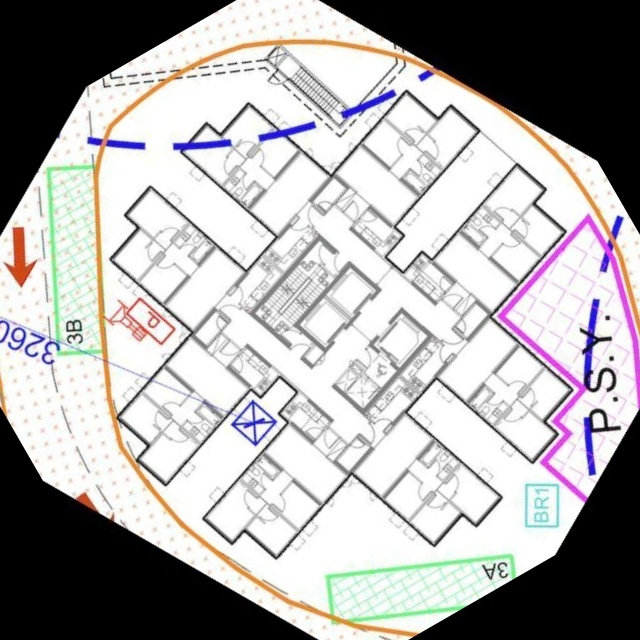tower_crane: (231, 402, 278, 445)
